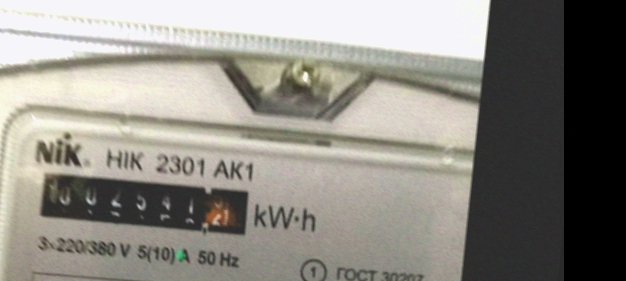0: (54, 179, 74, 206), (82, 179, 98, 207)
1: (181, 187, 197, 215)
2: (106, 181, 124, 208)
4: (158, 185, 173, 210)
5: (130, 183, 151, 212)
6: (207, 207, 224, 226)
screen: (25, 154, 264, 249)
